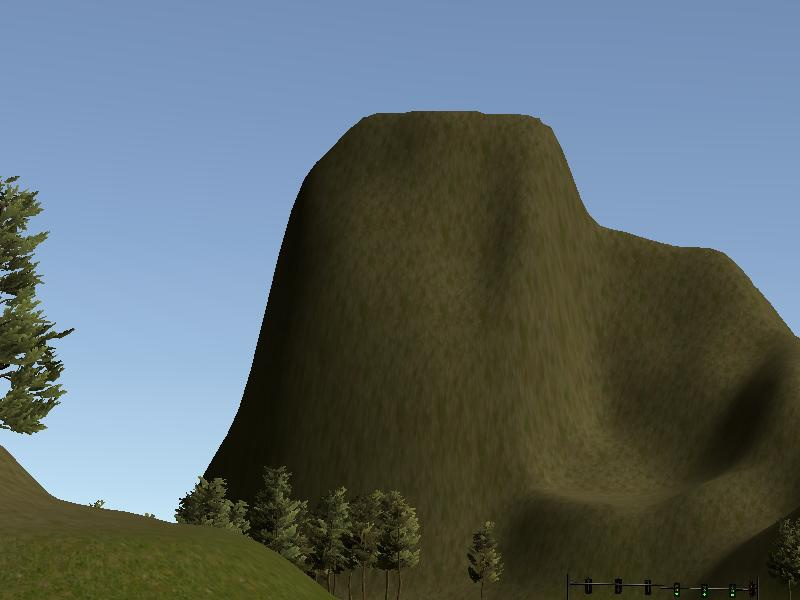Green: (727, 581, 738, 600), (672, 580, 682, 599), (699, 581, 709, 599)
